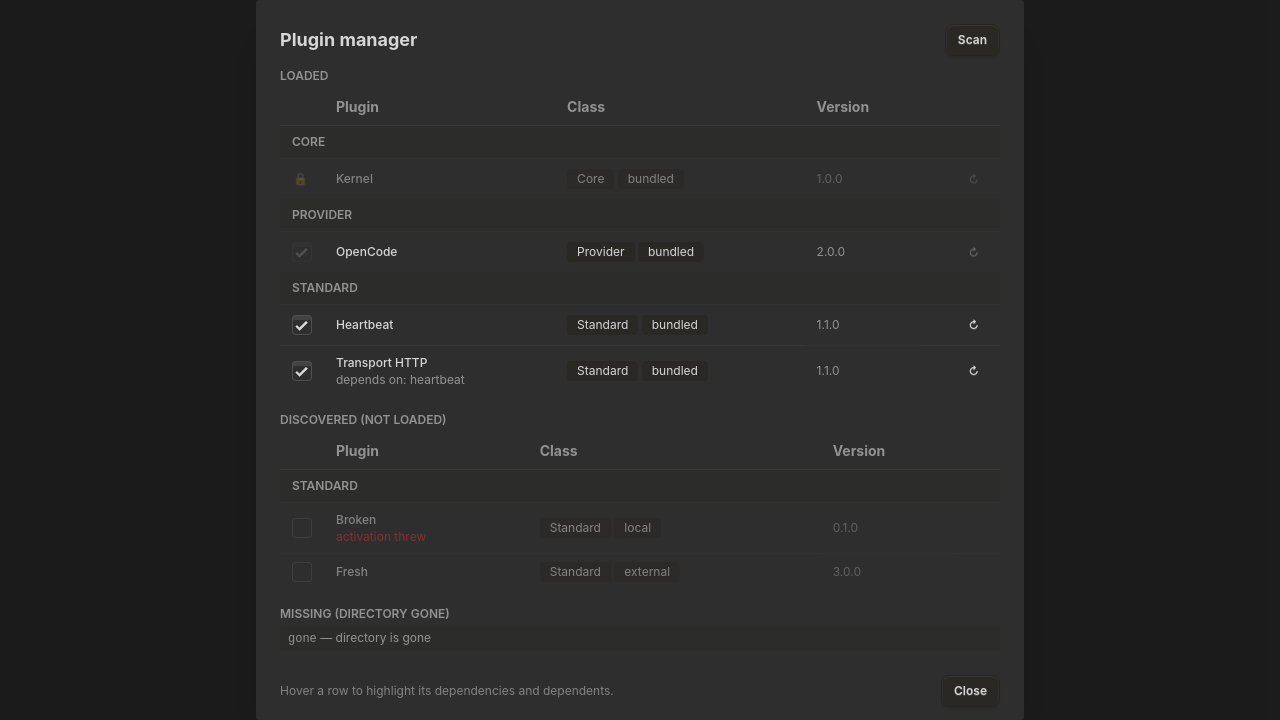
PluginManager — cascade-uncheck warning (§8) › unchecking a plugin with loaded dependents warns first (no request yet)
Click the checkbox named "Unload heartbeat". click: (302, 325)
box: [292, 315, 312, 335]
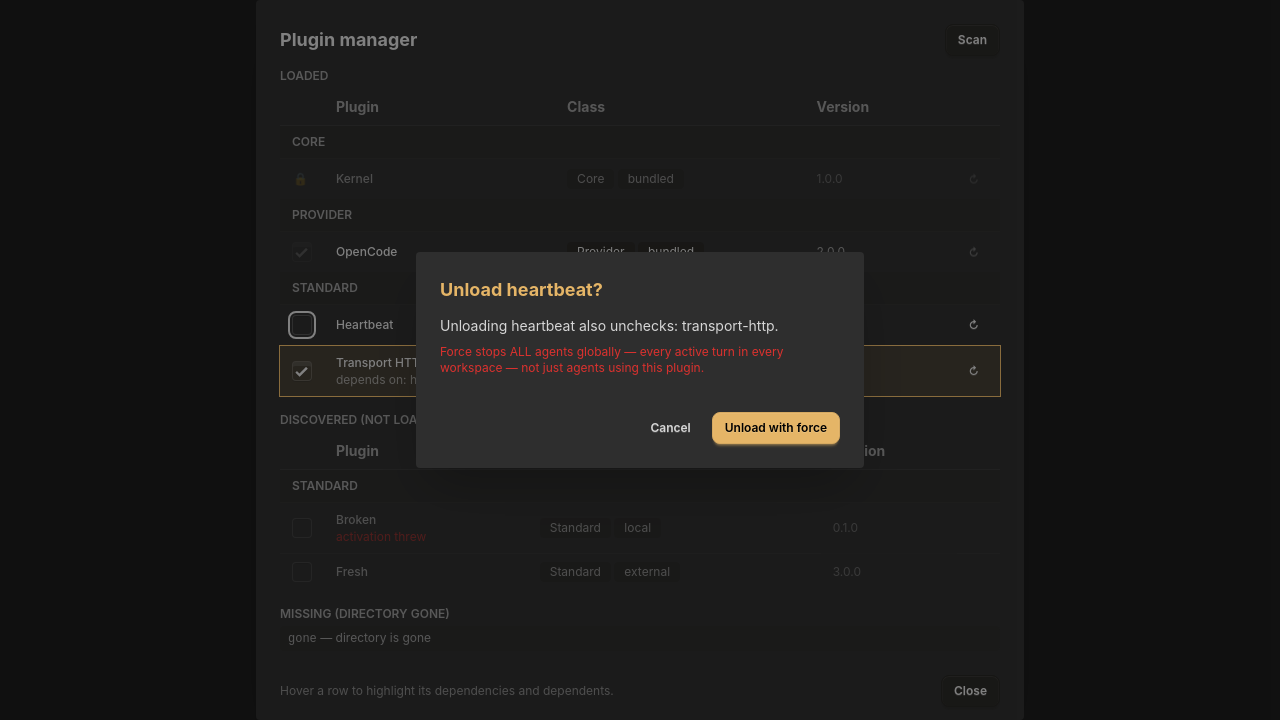
expect the dialog "Unload heartbeat" is shown: met
expect the text "Unloading heartbeat also unchecks: transport-http." is shown: met, box [440, 317, 779, 334]
